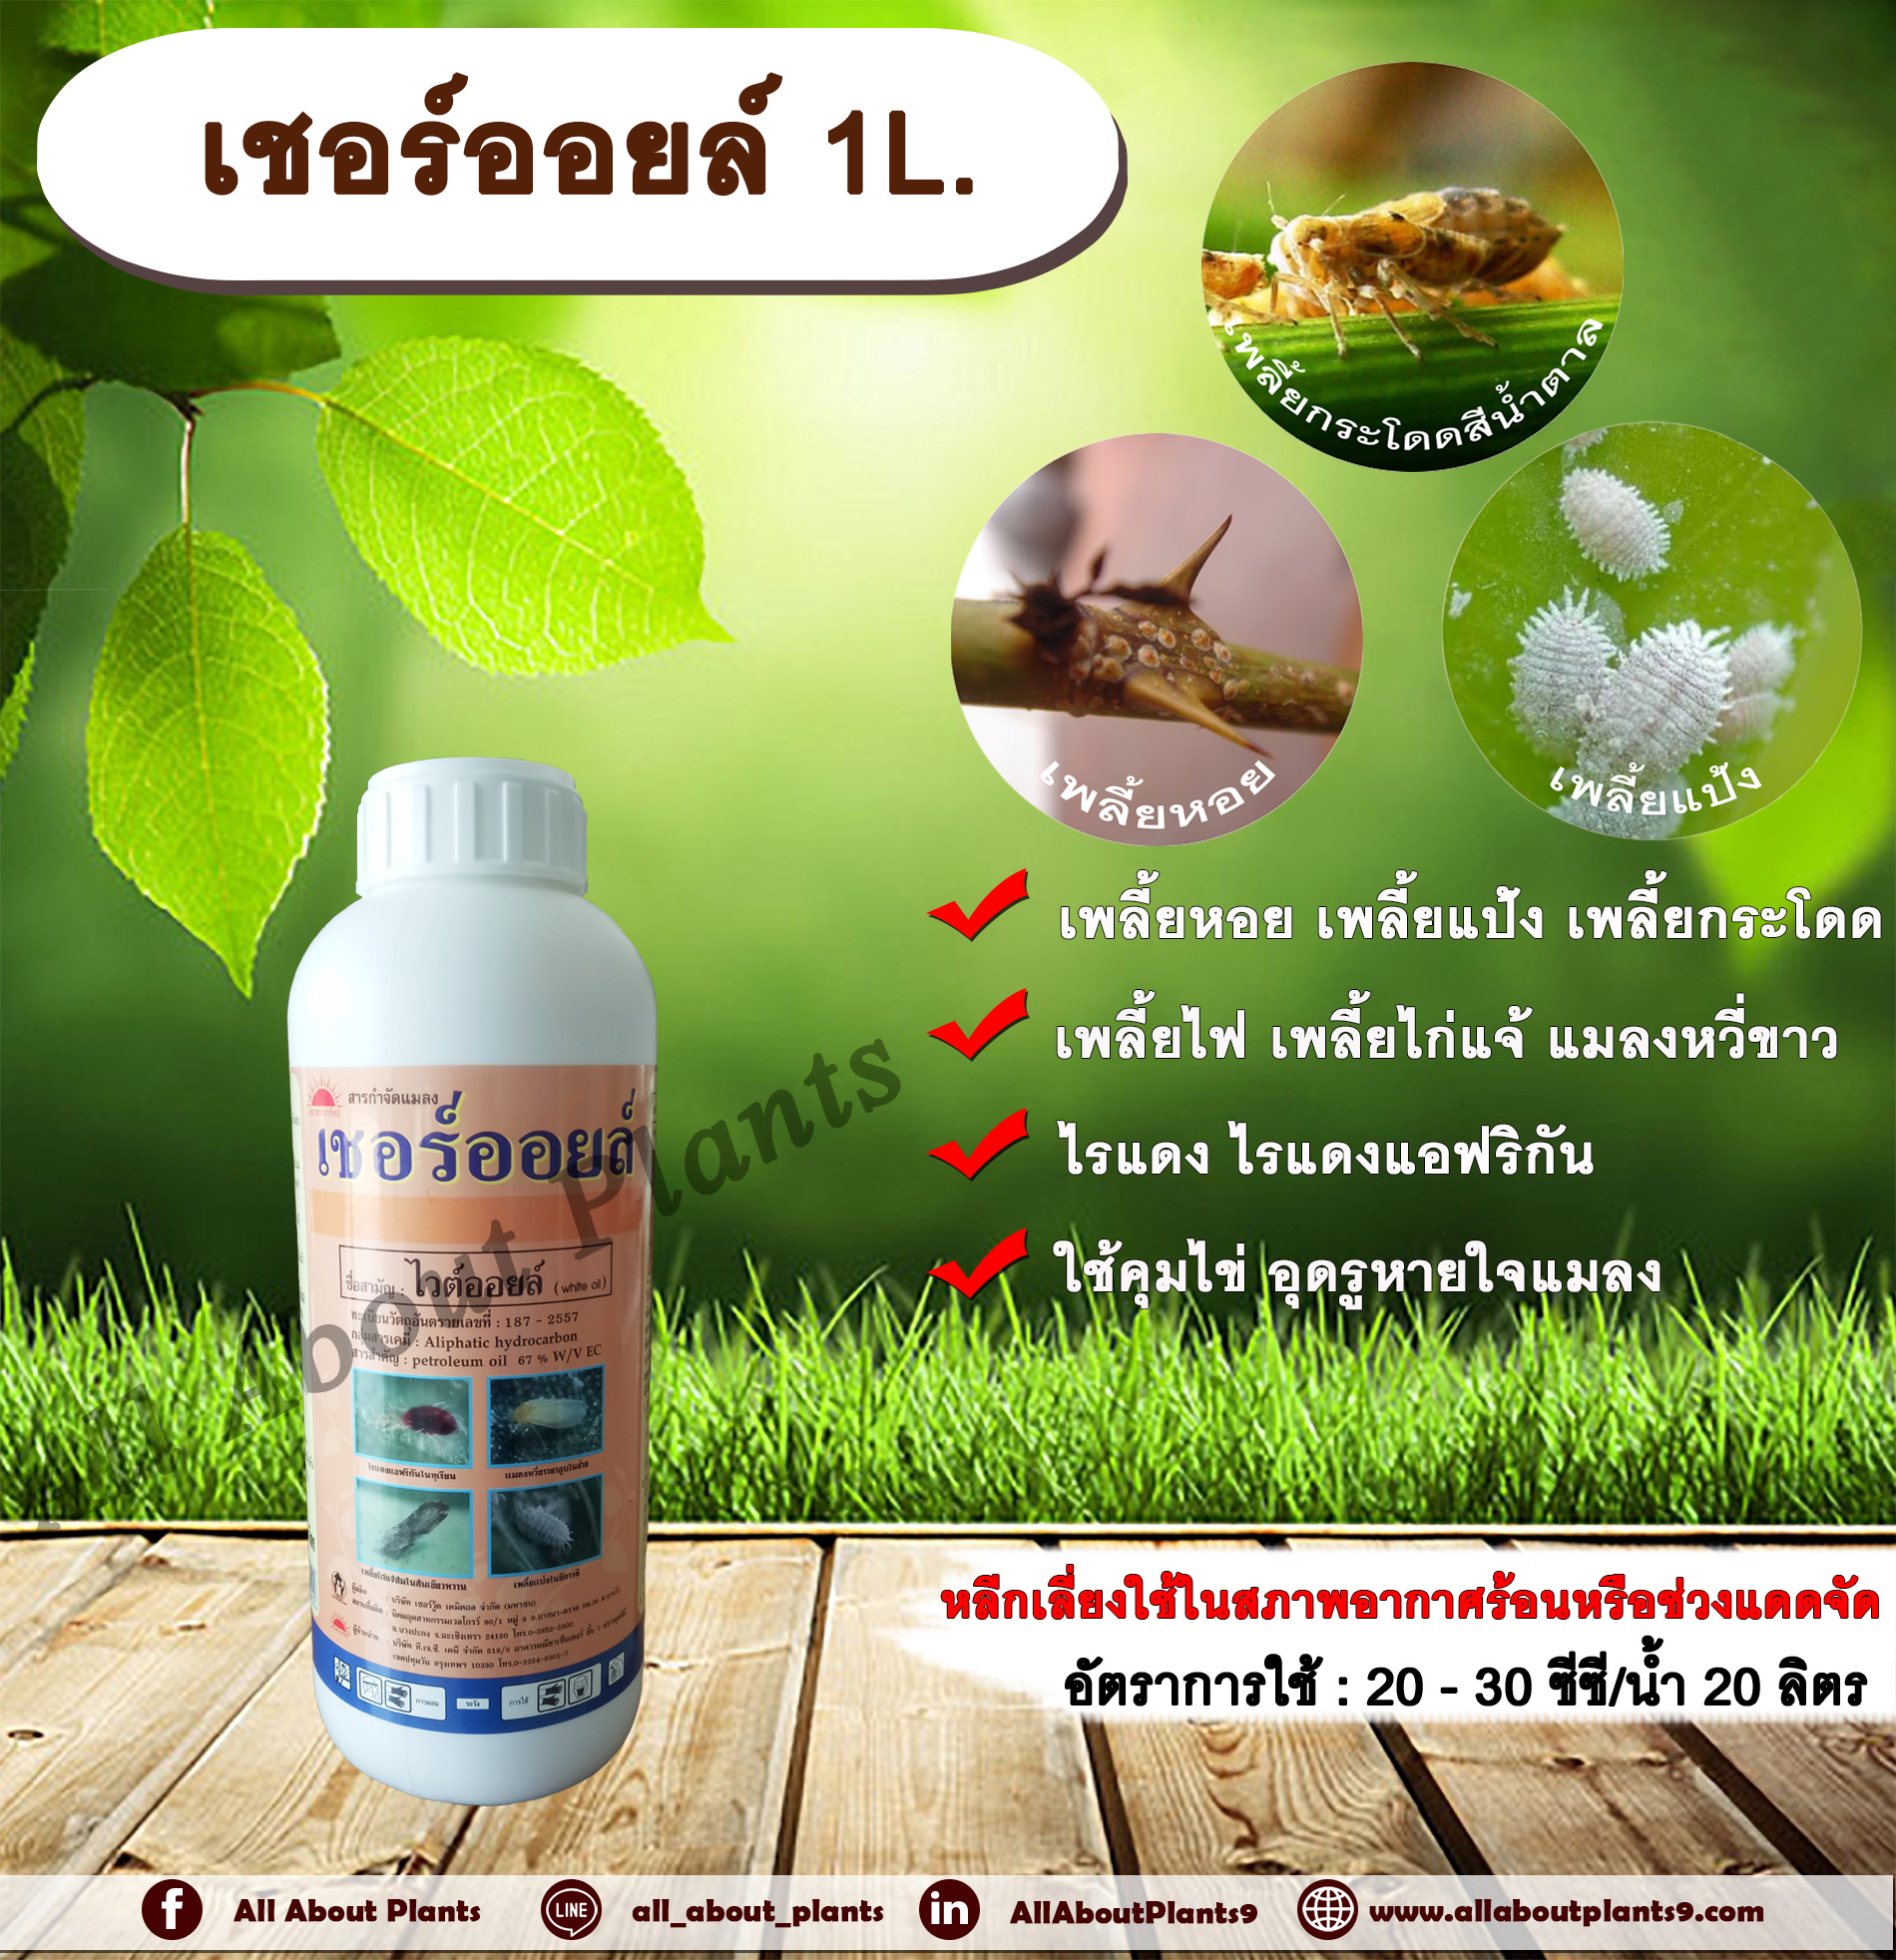Insecticide: (275, 738, 673, 1829)
